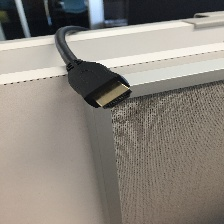hdmi_male: (37, 35, 164, 135)
